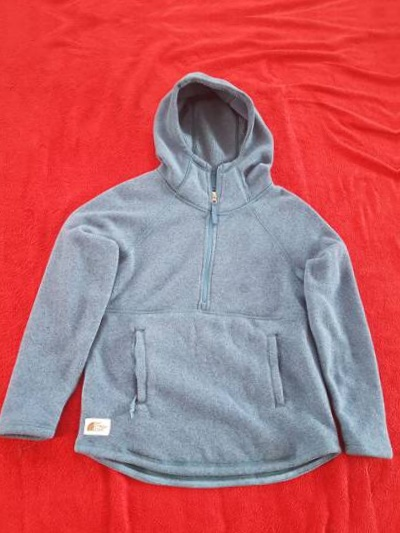Hoodie: (0, 53, 400, 481), (396, 39, 400, 467)
